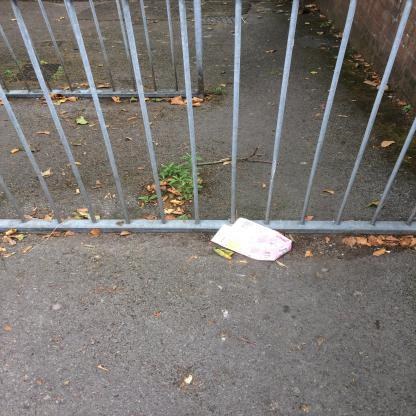karton: (211, 218, 293, 262)
